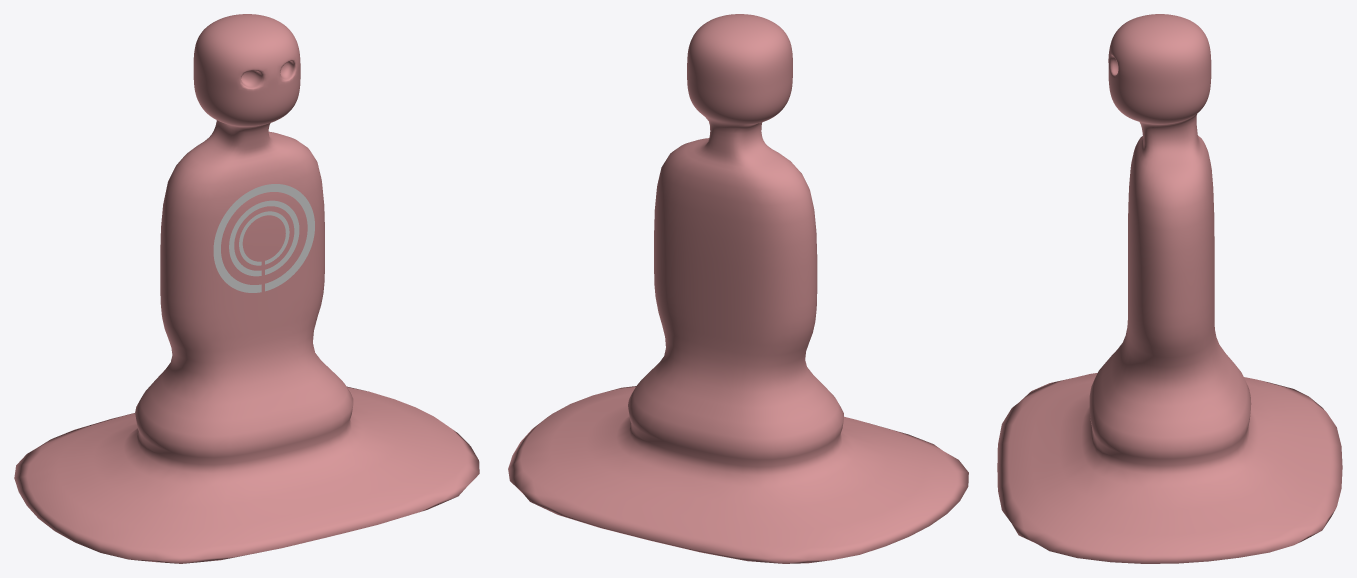
File: dummy.fbx
The picture shows the model from 3 angles, left to right: view 1: azimuth 30°, elevation 25°; view 2: azimuth 150°, elevation 25°; view 3: azimuth 270°, elevation 25°; orthographic projection.
Parts seen in each view (by area): view 1: Cube; view 2: Cube; view 3: Cube.
Part boxes in pixels (x1,y1,x2,y2): Cube: (14, 14, 479, 563); Cube: (508, 14, 968, 563); Cube: (997, 14, 1342, 563).
Size of the model in its own units: 198 by 215 by 150.
